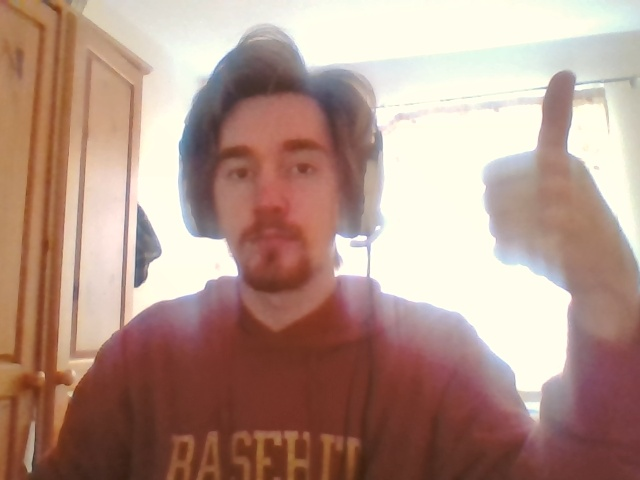good: (482, 71, 637, 267)
